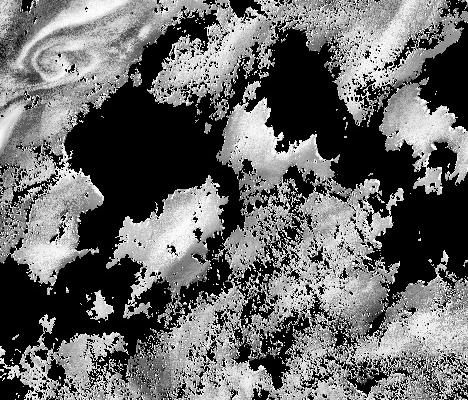CE: (30, 44, 70, 80)
